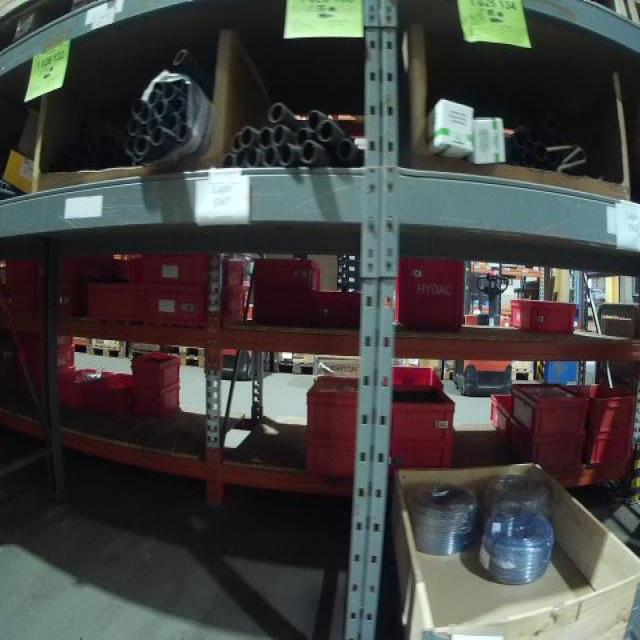pallet: (270, 364, 316, 377), (90, 346, 122, 360)
small_load_carrier: (487, 390, 586, 477), (394, 254, 468, 330), (146, 282, 250, 328), (386, 387, 464, 446), (510, 379, 588, 433), (140, 253, 251, 288), (309, 369, 369, 433), (565, 380, 638, 431), (507, 295, 576, 337), (83, 370, 139, 419), (583, 423, 639, 470), (86, 281, 144, 326), (251, 254, 323, 290), (306, 435, 364, 479), (8, 294, 85, 327), (310, 287, 363, 331), (251, 292, 313, 329), (57, 367, 105, 413), (389, 444, 460, 474), (134, 349, 179, 385), (133, 385, 179, 416), (385, 365, 444, 389), (6, 259, 48, 289), (26, 350, 71, 373), (21, 335, 73, 349)
